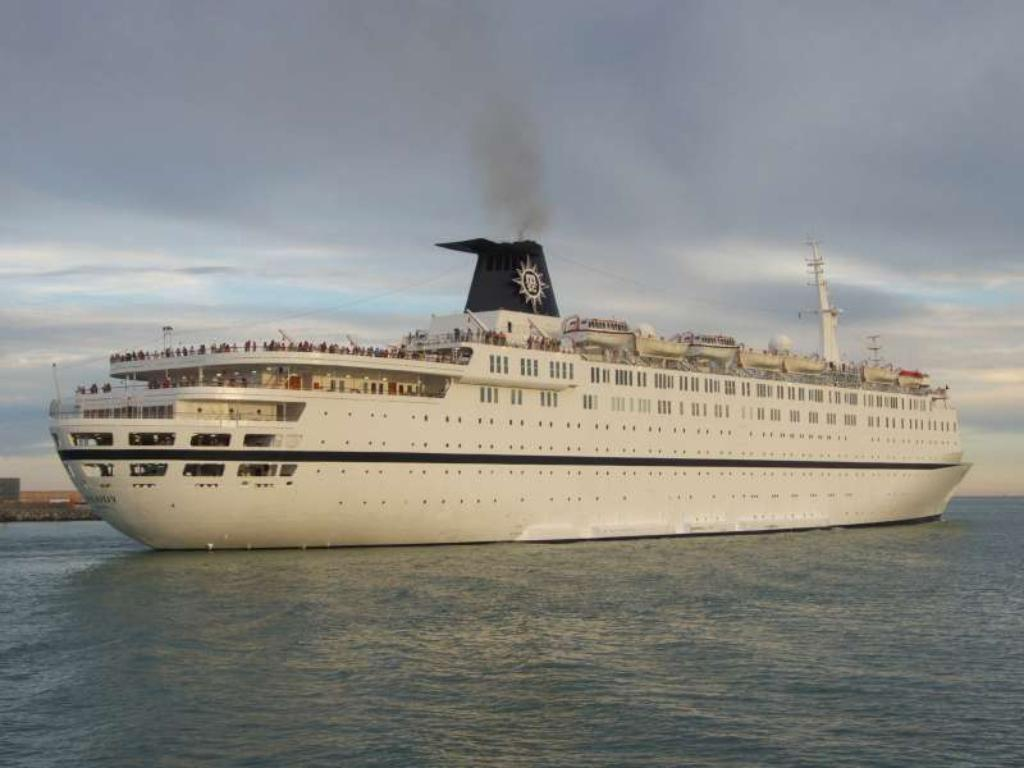PassengerShip: (30, 220, 984, 550)
